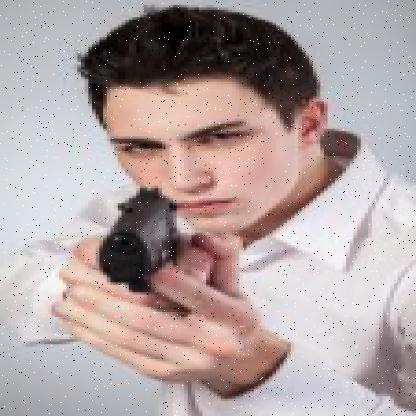pistol: (92, 178, 184, 307)
